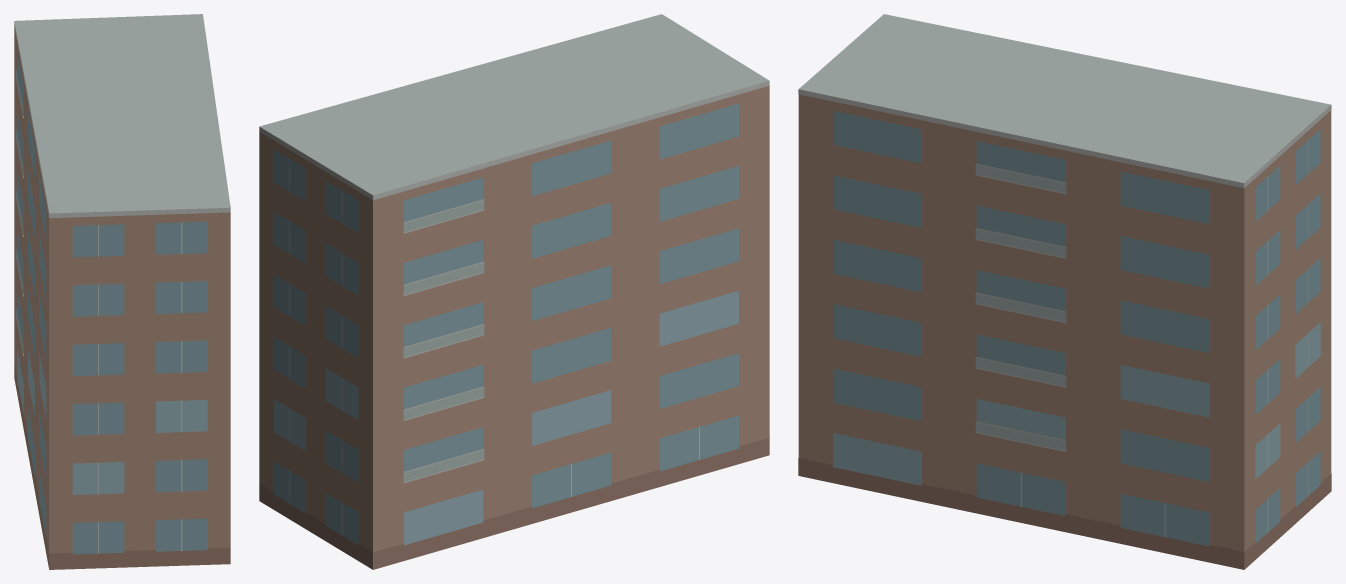
File: survey-upis-32886696.glb
3 renders of one model, left to right at view 1: azimuth 30°, elevation 25°; view 2: azimuth 150°, elevation 25°; view 3: azimuth 270°, elevation 25°, orthographic. The views are drawn at different scales.
Visible parts, largest first — view 1: survey-upis-32886696.tmp; view 2: survey-upis-32886696.tmp; view 3: survey-upis-32886696.tmp.
Part boxes in pixels (x1,y1,x2,y2): survey-upis-32886696.tmp: [14, 14, 230, 569]; survey-upis-32886696.tmp: [259, 14, 769, 569]; survey-upis-32886696.tmp: [798, 14, 1331, 569].
Bounding box in the file's own units: 17.47 × 18.6 × 23.25.
